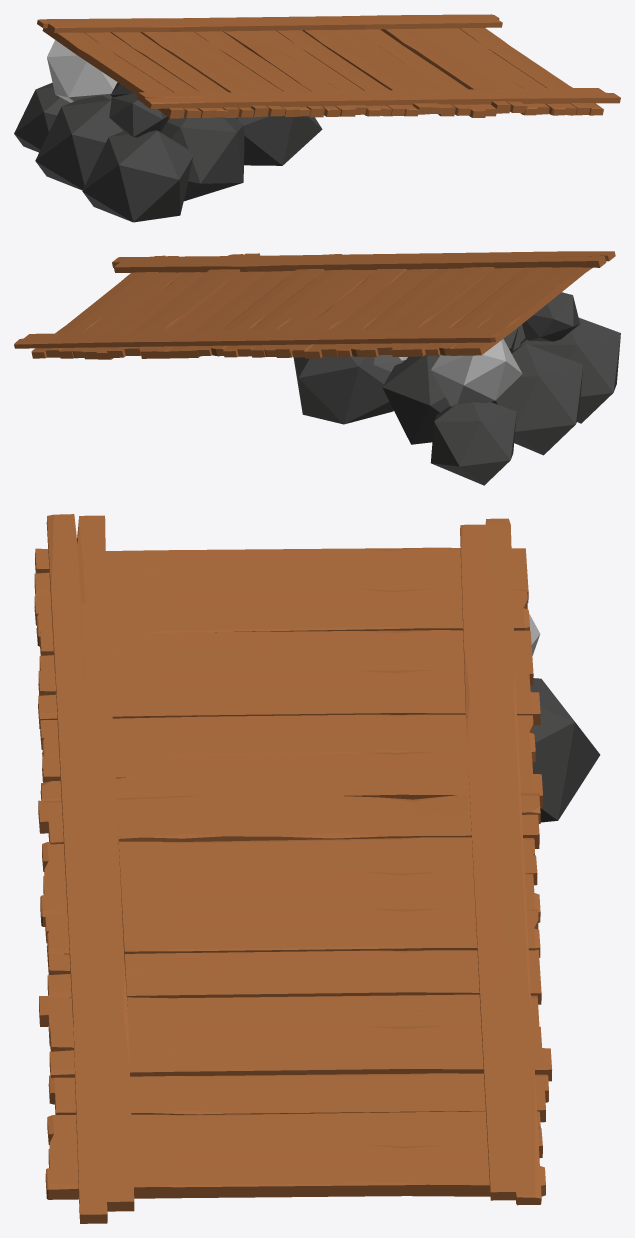
Rendered from ramp.fbx.
The picture shows the model from 3 angles, top to bottom: view 1: azimuth 30°, elevation 25°; view 2: azimuth 150°, elevation 25°; view 3: azimuth 270°, elevation 25°; orthographic projection. The views are drawn at different scales.
Parts seen in each view (by area): view 1: Cube.006; view 2: Cube.006; view 3: Cube.006.
Boxes of the visible parts, left/top/right/bottom form: Cube.006: left=14, top=14, right=620, bottom=222; Cube.006: left=14, top=251, right=620, bottom=485; Cube.006: left=34, top=514, right=600, bottom=1223.
Bounding box in the file's own units: 424 × 108 × 201.
